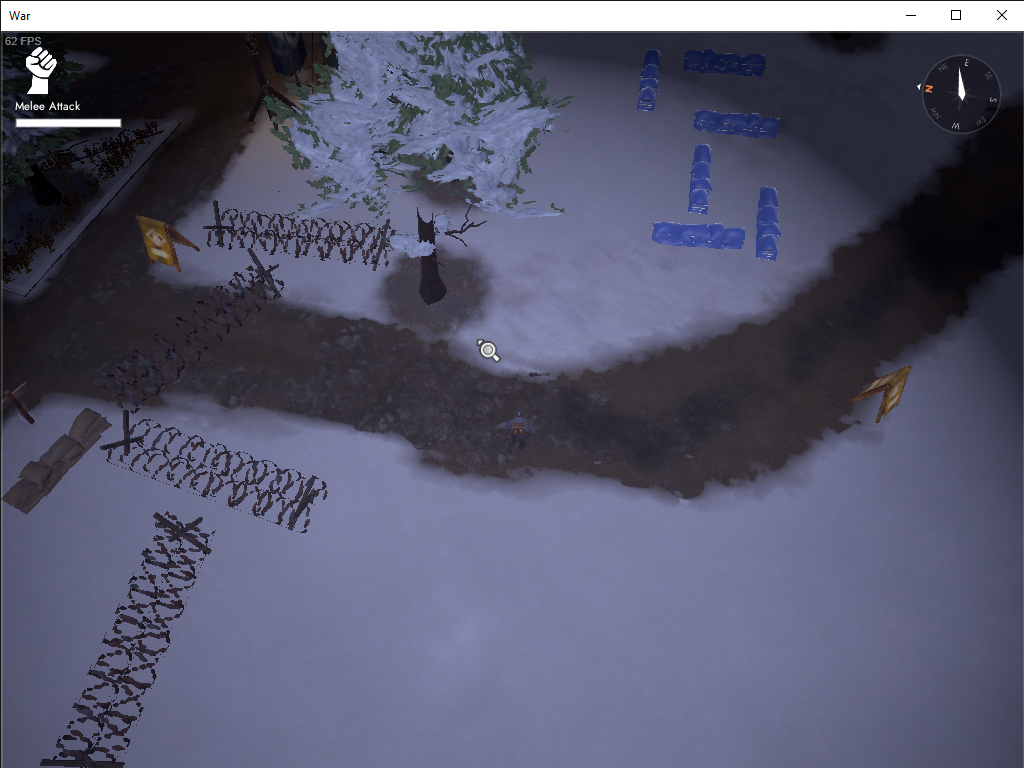player: (504, 410, 533, 452)
sandbag: (2, 409, 114, 516), (649, 218, 747, 252), (691, 107, 781, 141), (679, 48, 768, 82), (752, 185, 783, 263), (685, 144, 716, 216), (636, 46, 664, 113)
wire: (36, 511, 220, 768), (95, 250, 290, 417), (99, 409, 332, 537), (1, 126, 163, 286), (201, 199, 395, 273), (1, 123, 157, 187)
